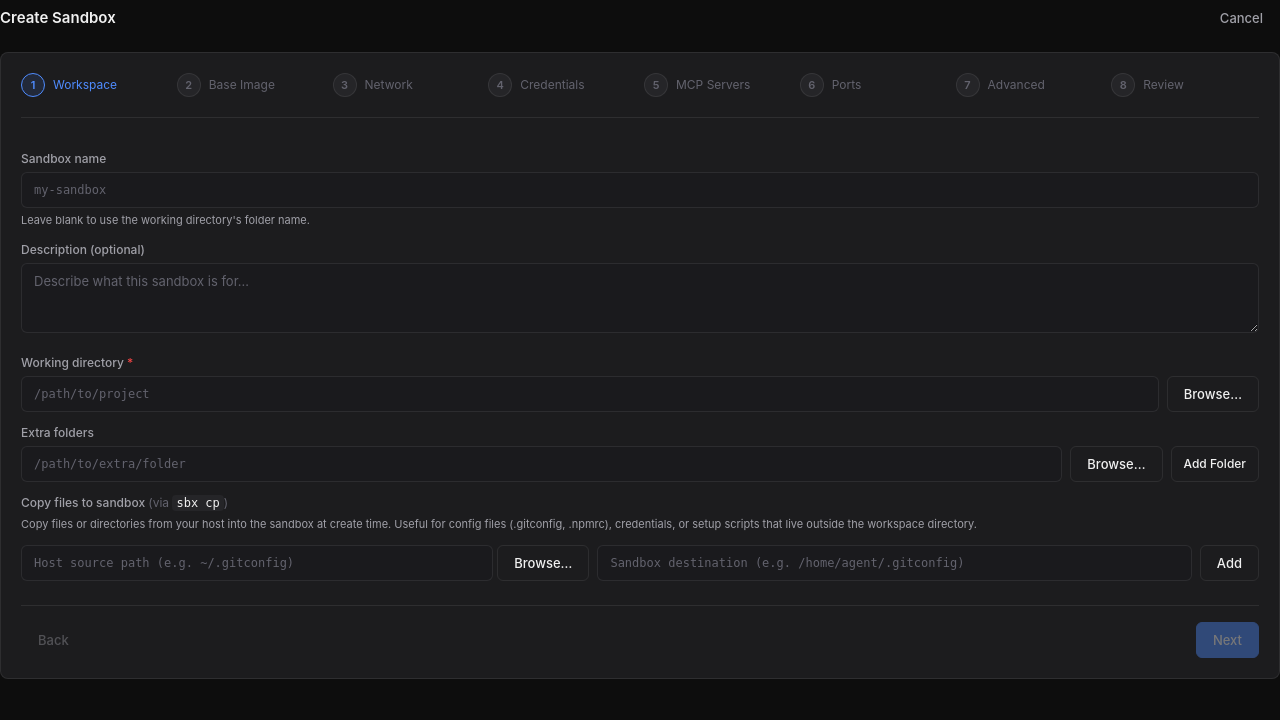
Test: CreateDefinition copy-files section › adds an entry from the add-row and shows it as a read-only pill
This screenshot has width=1280, height=720.
# Step 1 is shown by default. Fill the add-row and click Add.
Type "~/.gitconfig" into the field named "Copy host source path" at (257, 563), box [21,545,493,581]
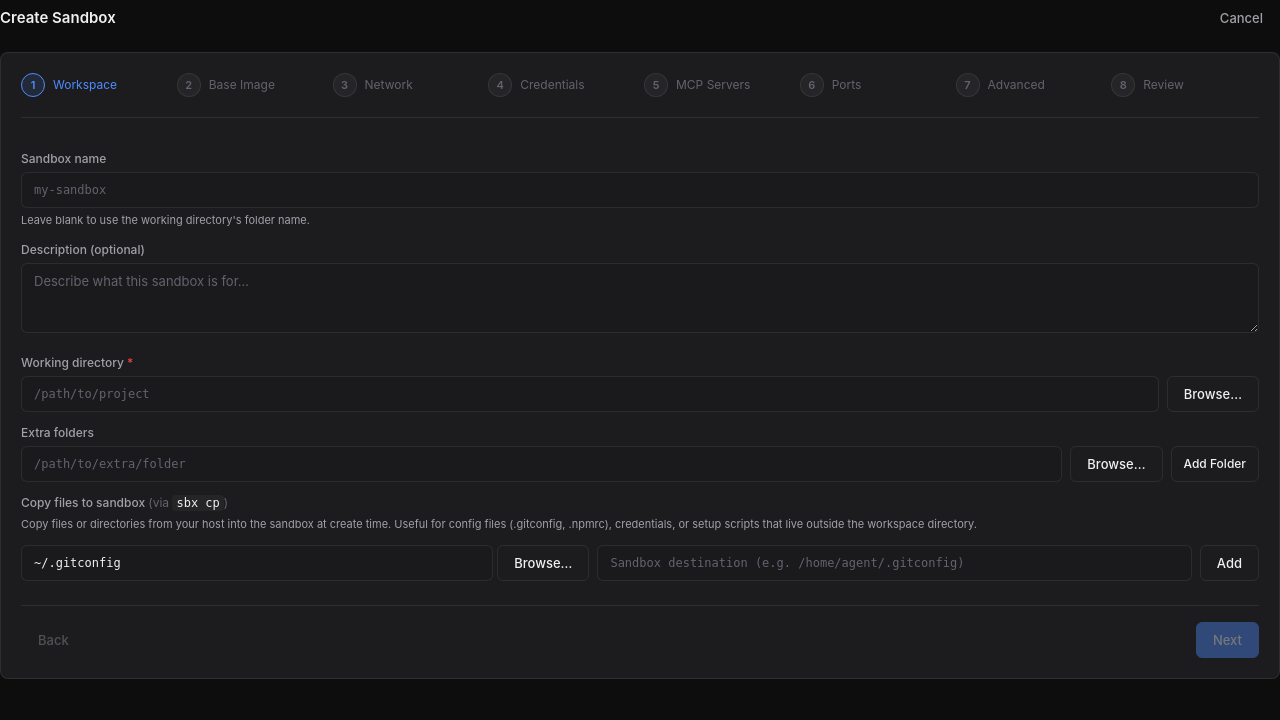
Type "/home/user/.gitconfig" into the field named "Copy sandbox destination" at (895, 563), box [597,545,1192,581]
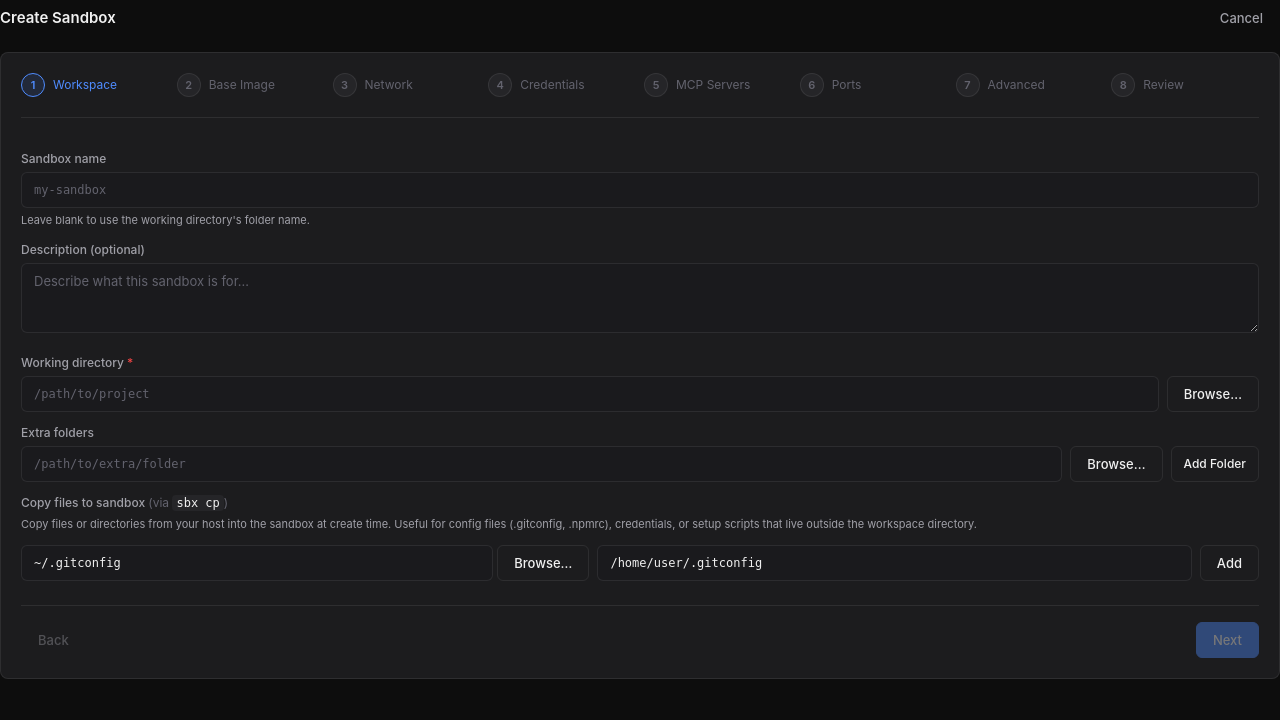
Click the button "Add" at (1229, 563), box [1200,545,1259,581]
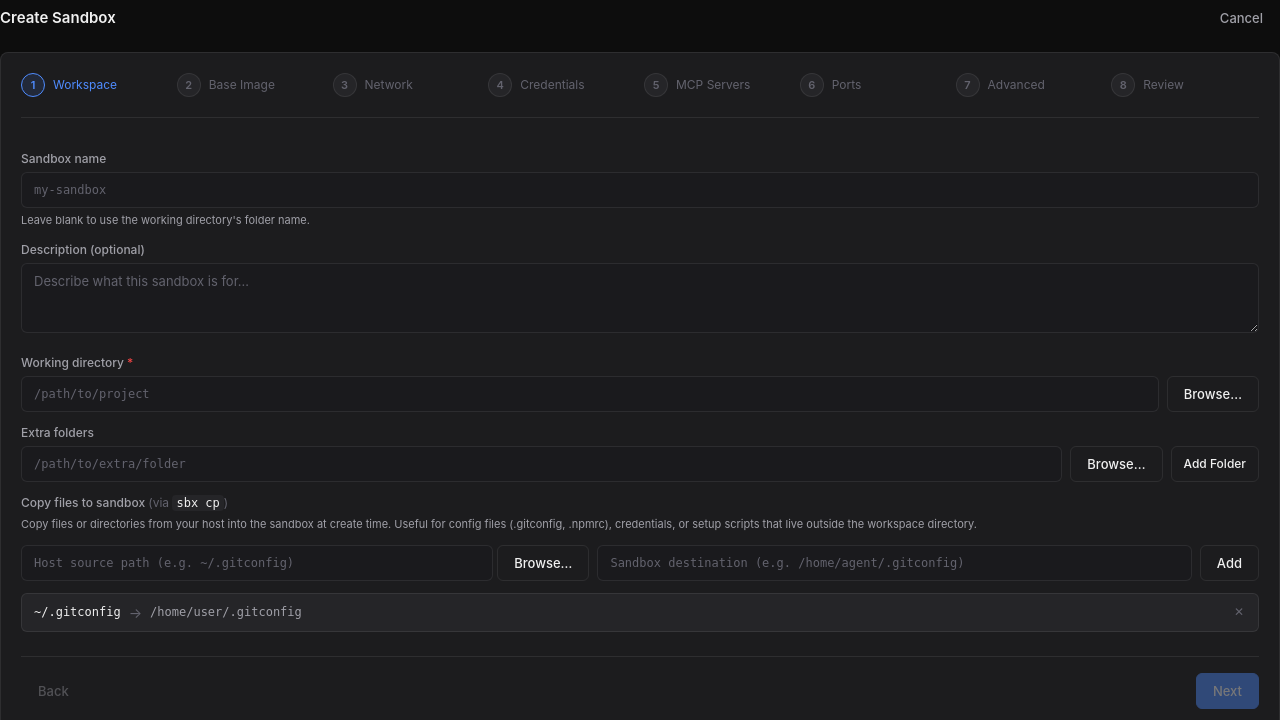
Check: the text "/home/user/.gitconfig" is shown, box [150,605,302,619]
Check: the button named "Remove ~/.gitconfig" is shown, box [1232,605,1246,619]
Check: the field named "Copy host source path" is empty, box [21,545,493,581]
